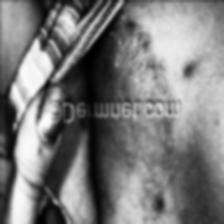Non-Cancerous Skin Condition: (107, 5, 219, 88)
